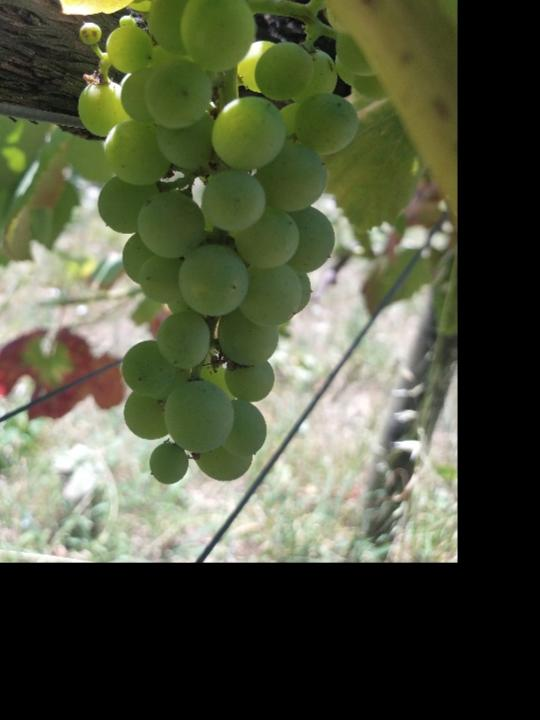grape: (77, 0, 387, 484)
